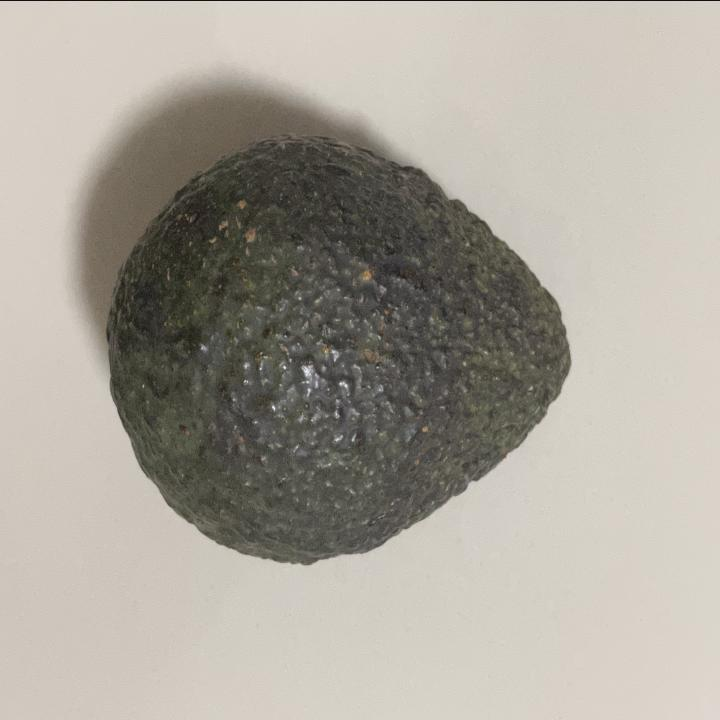Level1: (90, 122, 586, 582)
